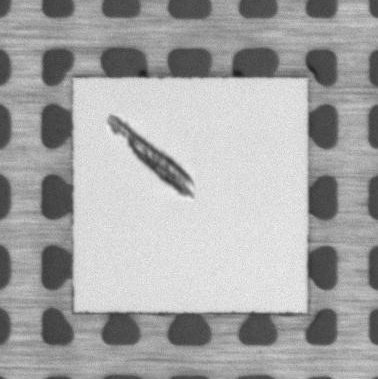DIE_INK: (103, 110, 196, 205)
